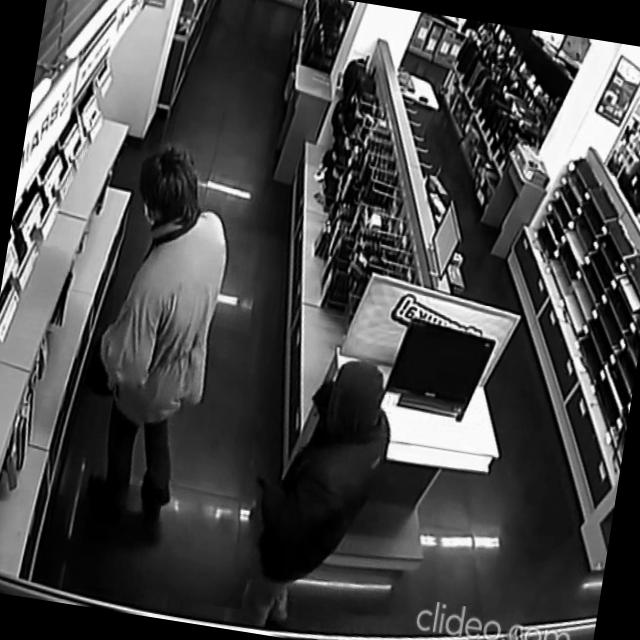gun: (250, 469, 273, 496)
person: (74, 138, 246, 531)
person with a gun: (229, 345, 403, 640)
